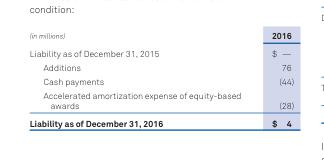table: (28, 29, 293, 128)
table column: (28, 29, 255, 128), (255, 29, 293, 128)
table column header: (28, 29, 293, 44)
table row: (28, 88, 293, 114), (28, 44, 293, 60), (28, 29, 293, 44), (28, 60, 293, 74), (28, 74, 293, 88), (28, 114, 293, 128)
